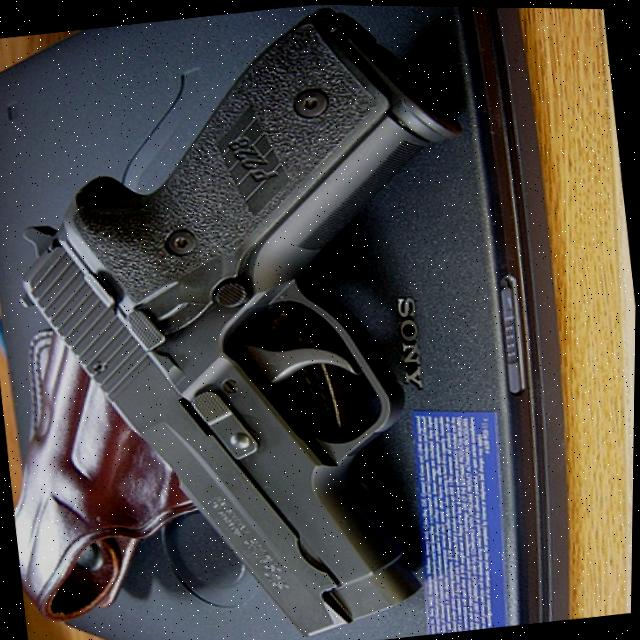pistol: (0, 0, 523, 640)
